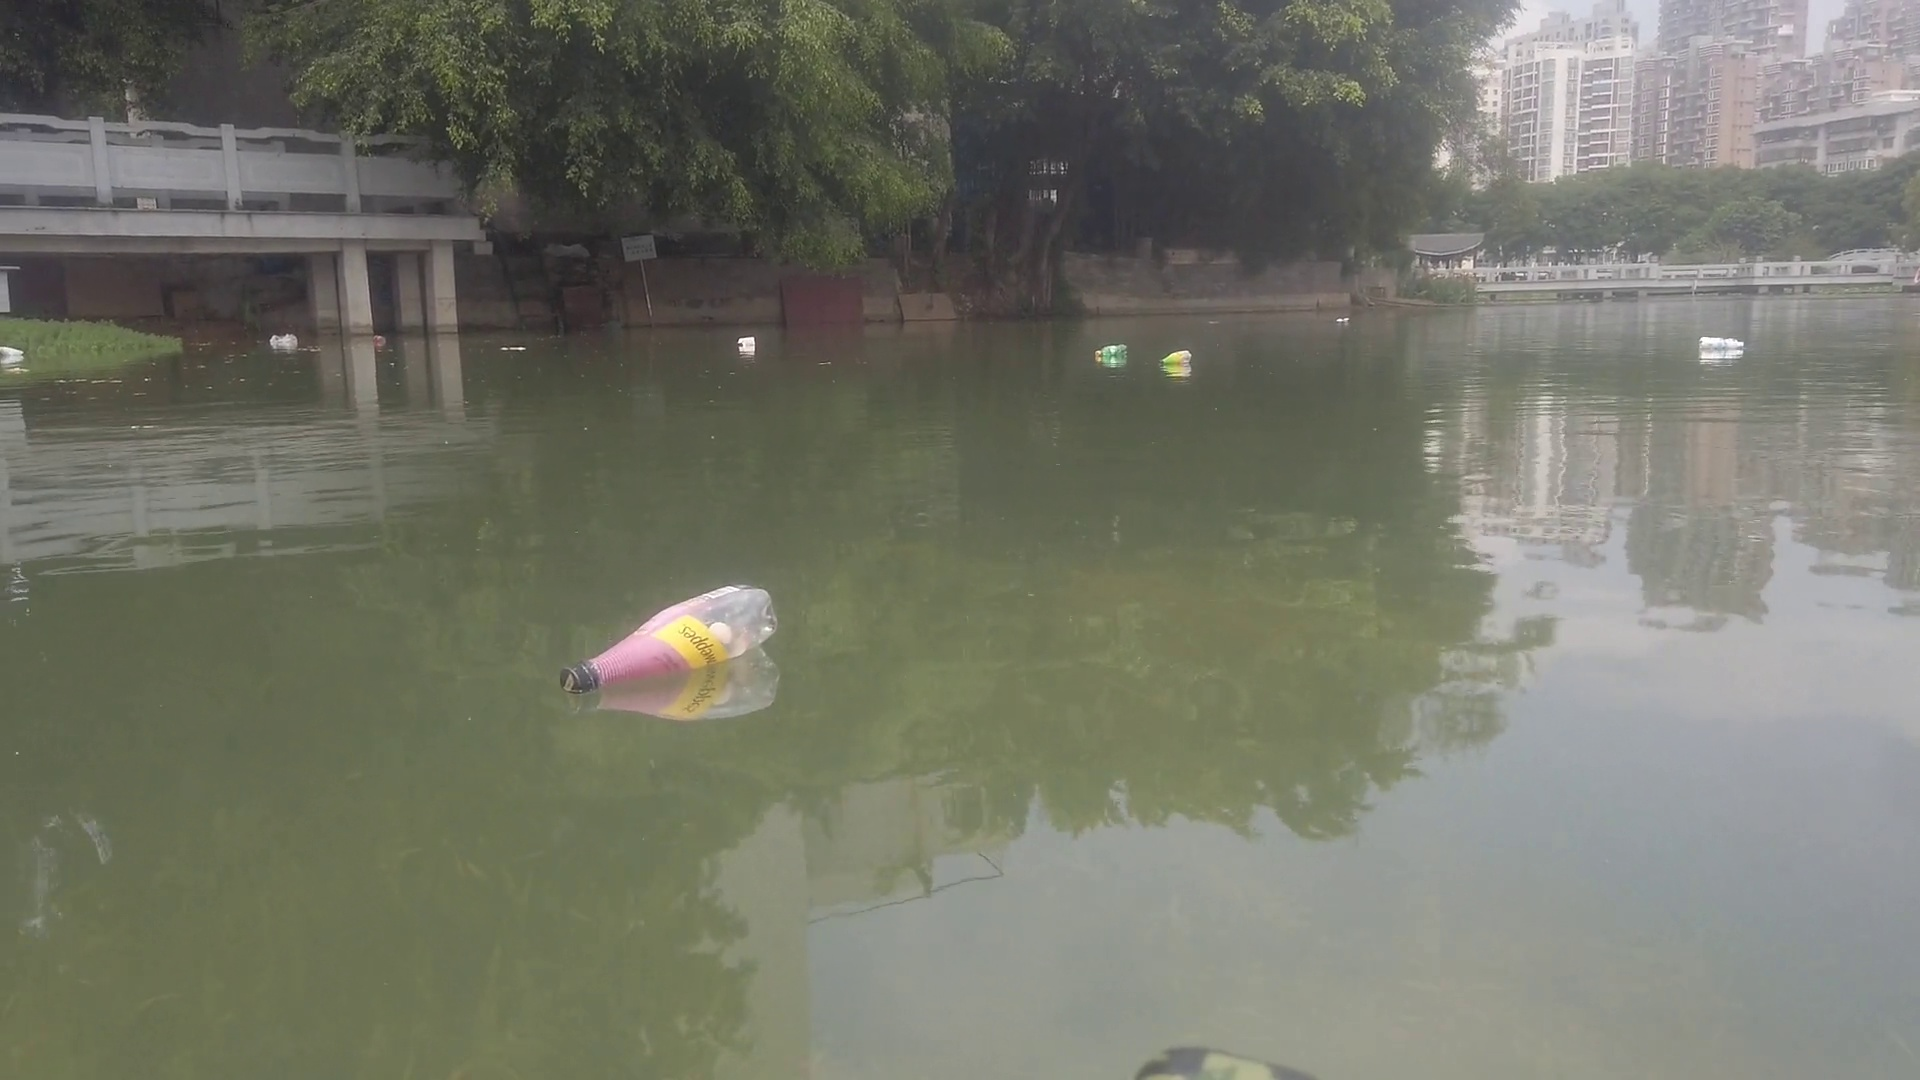bottle: (555, 582, 786, 694), (1696, 334, 1749, 356), (1154, 345, 1192, 369), (1095, 343, 1127, 356), (368, 328, 388, 344)
carton: (736, 334, 753, 349)
paper: (496, 340, 526, 355)
plastic: (262, 330, 303, 347), (1, 347, 28, 357)
